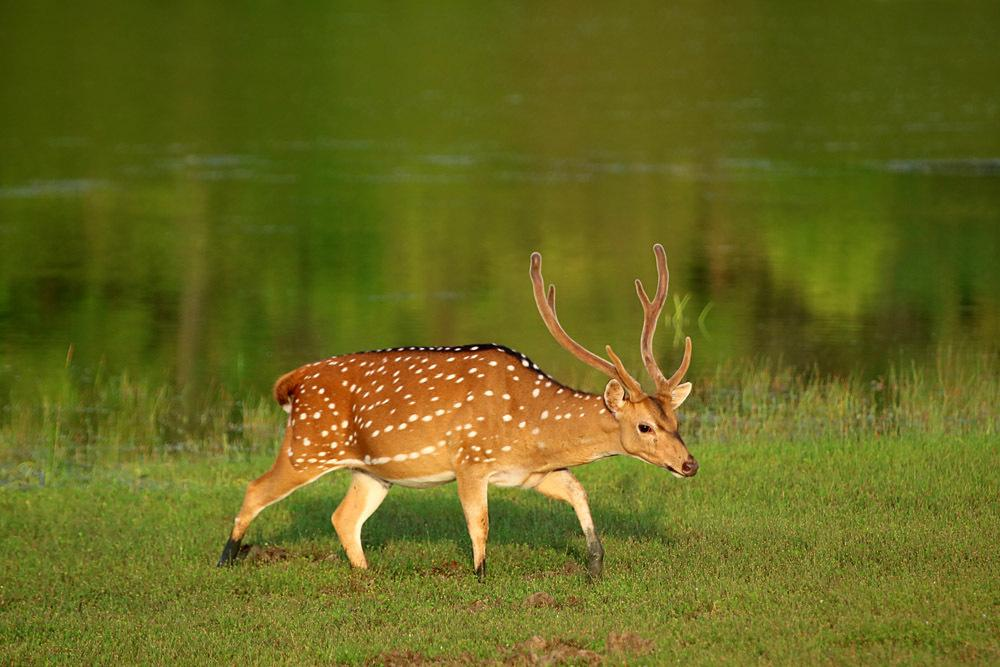Deer: (220, 244, 698, 574)
